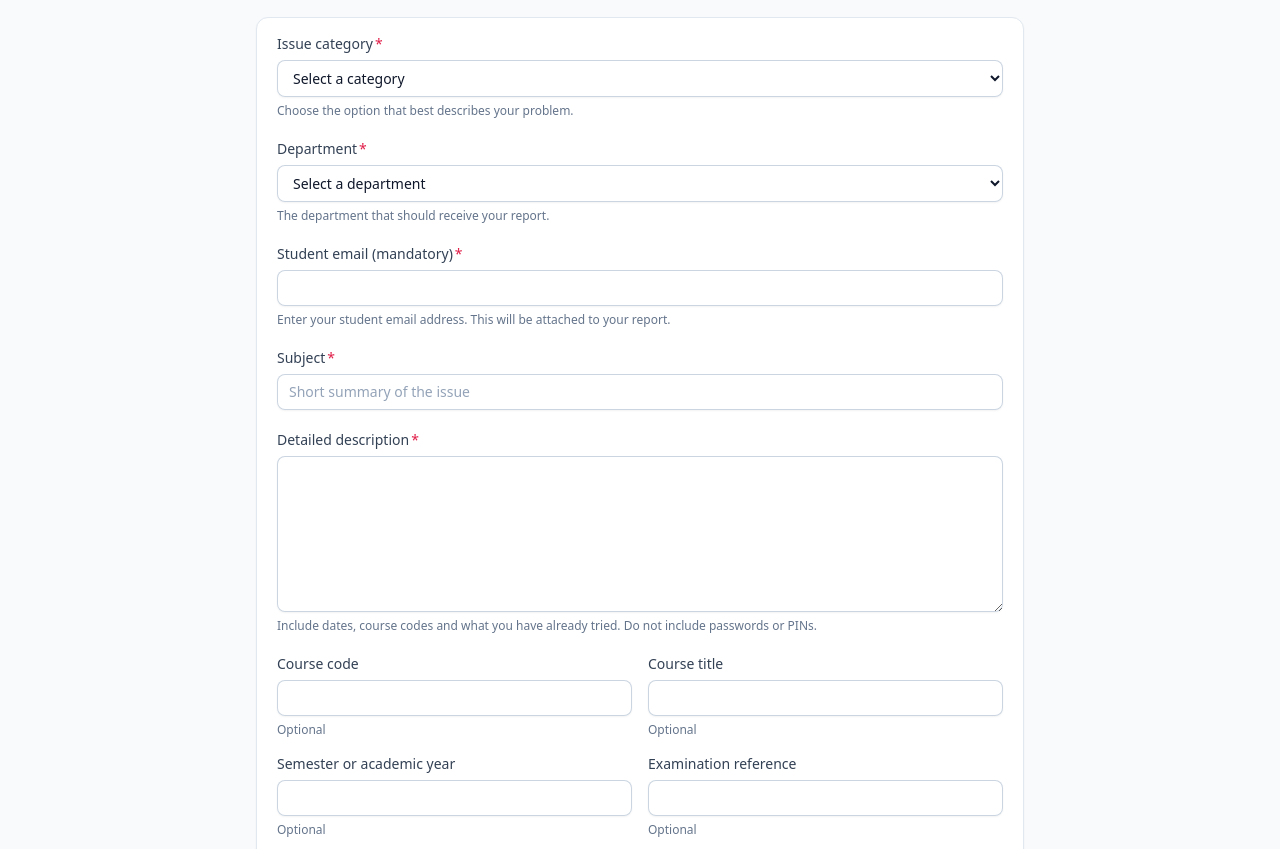
Test: NewTicketPage › submits the report and shows the issued reference number
Select "Missing examination results" in the dropdown labelled "Issue category*": (640, 78) top-left (277, 60), bottom-right (1003, 97)
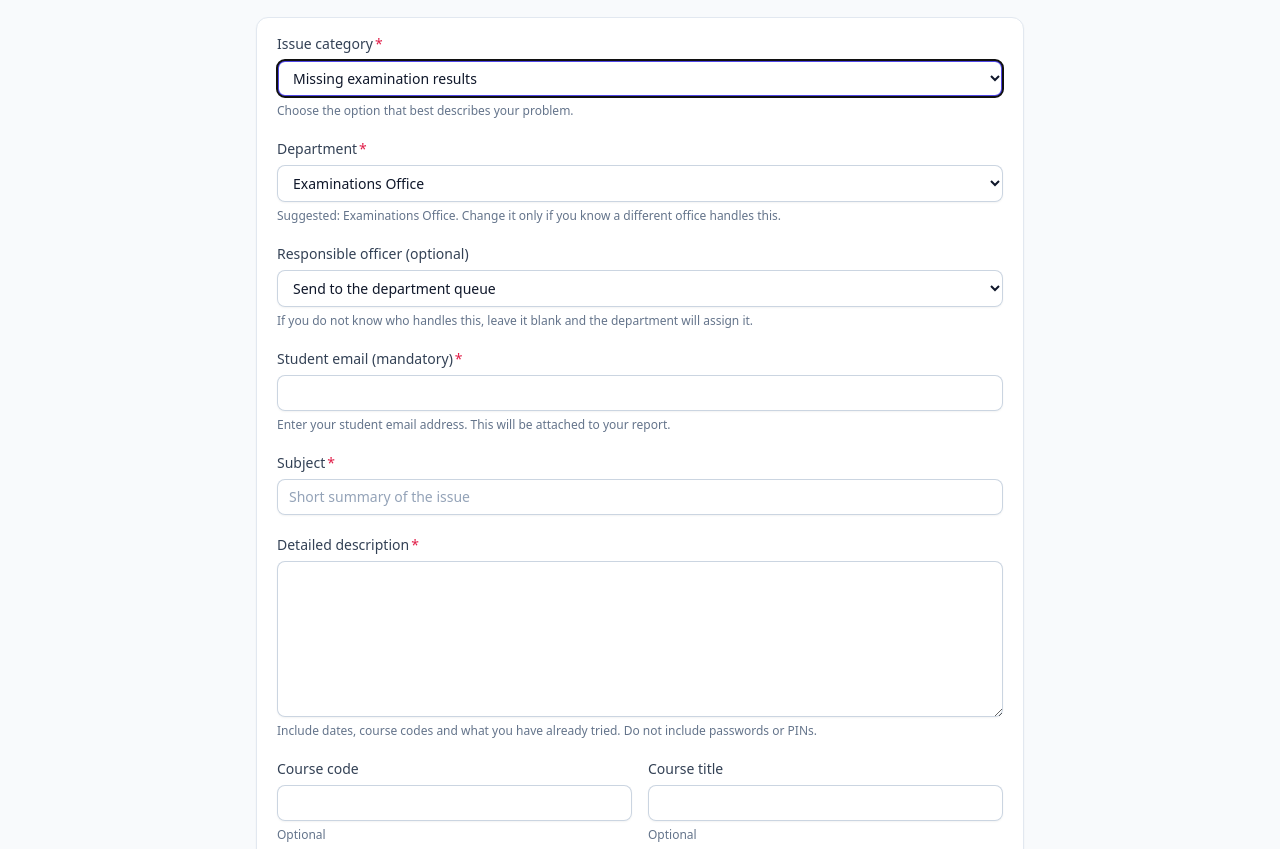
In the field labelled "Student email (mandatory)*": (640, 393) top-left (277, 375), bottom-right (1003, 411), type "student@example.com"
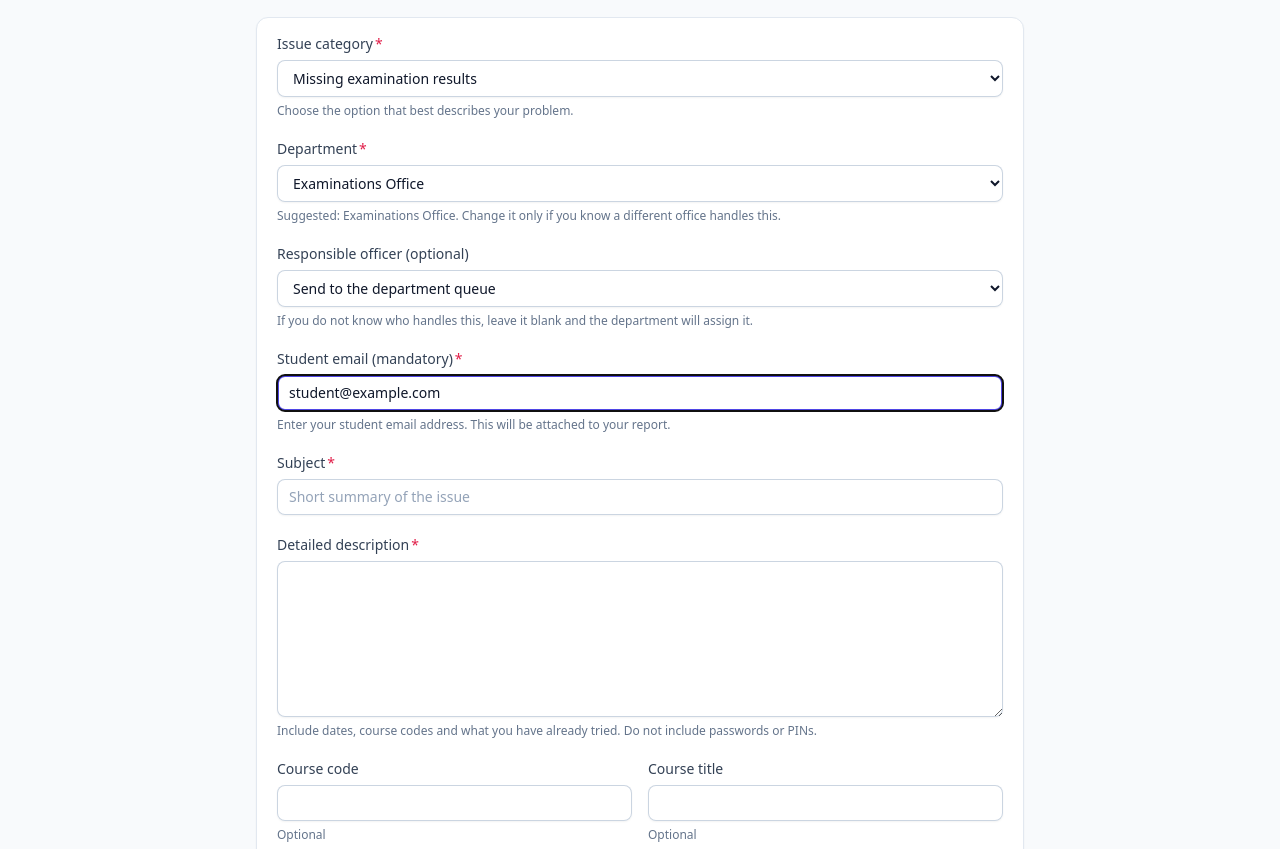
In the field labelled "Subject*": (640, 497) top-left (277, 479), bottom-right (1003, 515), type "Missing examination result for CS201"
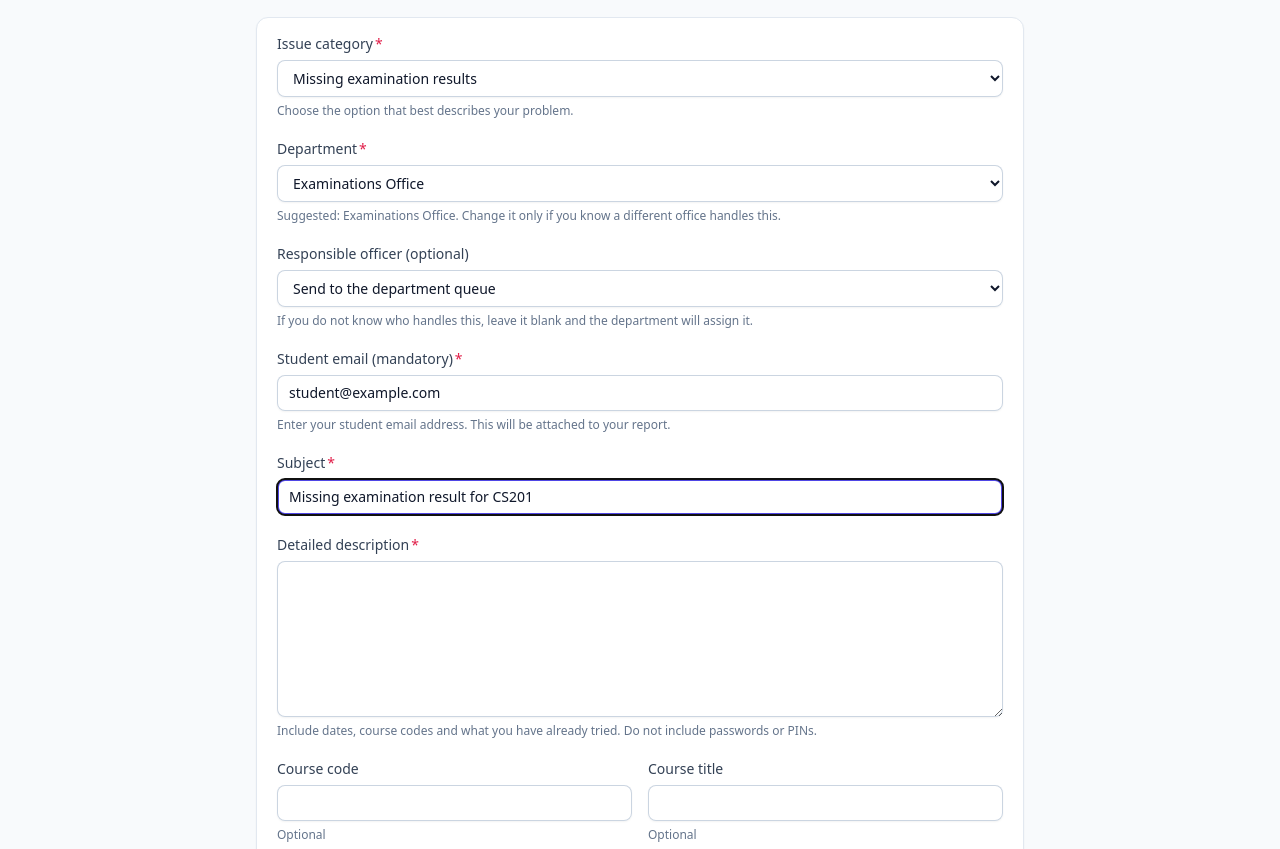
In the text box labelled "Detailed description*": (640, 639) top-left (277, 561), bottom-right (1003, 717), type "My result for CS201 was not uploaded to the portal two weeks after the results were published."
(page scrolled)
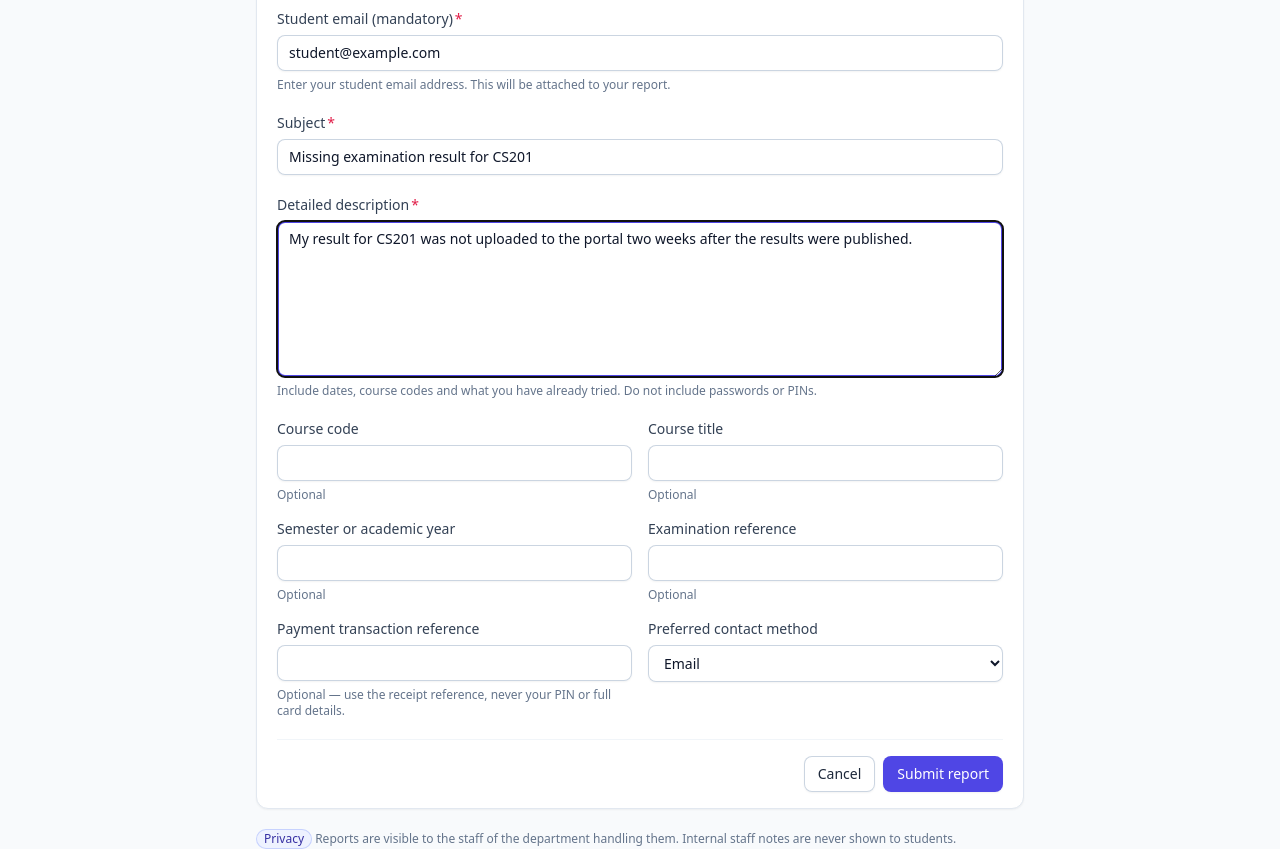
Click the button "Submit report": (943, 774) top-left (883, 756), bottom-right (1003, 792)
(page scrolled)
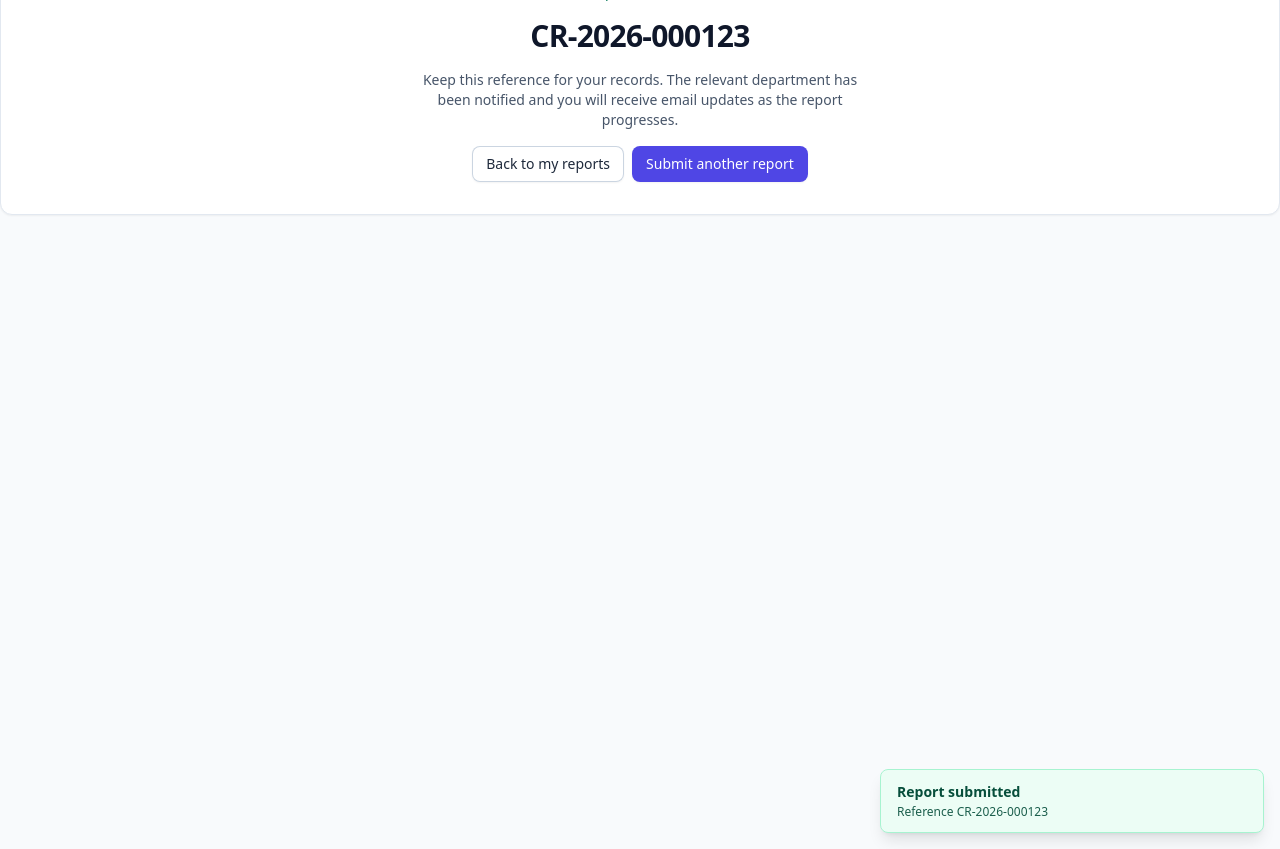
Expected: the text "CR-2026-000123" is shown, top-left (530, 15), bottom-right (750, 56)
